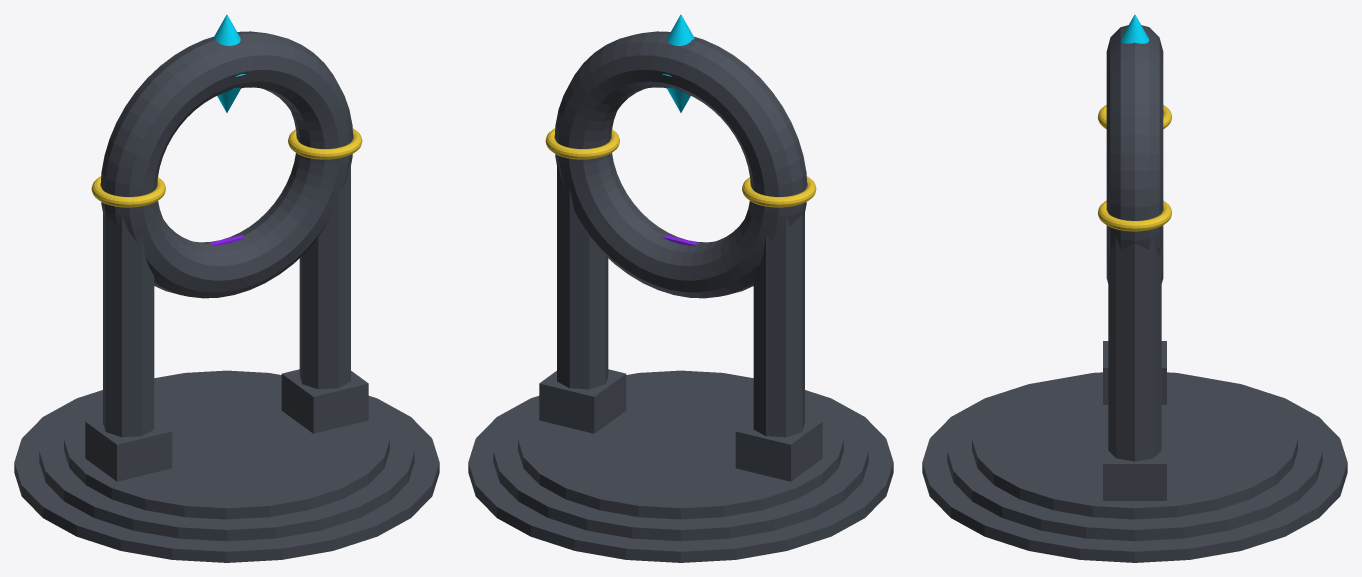
The model's file is Portal_Dungeon_Spectacular.obj.
3 views of the same model, side by side, from view 1: azimuth 30°, elevation 25°; view 2: azimuth 150°, elevation 25°; view 3: azimuth 270°, elevation 25° (orthographic).
Parts seen in each view (by area): view 1: Portal_Archway, Plinth_Step_3, Plinth_Step_1, Plinth_Step_2, Pillar_Col_Left, Pillar_Col_Right, Pillar_Base_Left, Pillar_Base_Right, Pillar_Collar_Left, Pillar_Collar_Right, Keystone_Top; view 2: Portal_Archway, Plinth_Step_3, Plinth_Step_1, Plinth_Step_2, Pillar_Col_Left, Pillar_Col_Right, Pillar_Base_Left, Pillar_Base_Right, Pillar_Collar_Left, Pillar_Collar_Right, Keystone_Top; view 3: Plinth_Step_3, Plinth_Step_1, Plinth_Step_2, Portal_Archway, Pillar_Col_Right, Pillar_Base_Right, Pillar_Collar_Right, Pillar_Base_Left.
Part boxes in pixels (x1=…): Portal_Archway: x1=100, y1=31, x2=353, y2=298; Plinth_Step_3: x1=64, y1=370, x2=389, y2=519; Plinth_Step_1: x1=14, y1=390, x2=439, y2=562; Plinth_Step_2: x1=39, y1=392, x2=414, y2=541; Pillar_Col_Left: x1=103, y1=213, x2=154, y2=437; Pillar_Col_Right: x1=299, y1=160, x2=350, y2=389; Pillar_Base_Left: x1=85, y1=417, x2=172, y2=481; Pillar_Base_Right: x1=281, y1=369, x2=368, y2=433; Pillar_Collar_Left: x1=91, y1=176, x2=165, y2=207; Pillar_Collar_Right: x1=288, y1=128, x2=362, y2=159; Keystone_Top: x1=213, y1=14, x2=245, y2=76; Portal_Archway: x1=554, y1=31, x2=807, y2=298; Plinth_Step_3: x1=518, y1=370, x2=843, y2=519; Plinth_Step_1: x1=468, y1=390, x2=893, y2=562; Plinth_Step_2: x1=493, y1=392, x2=868, y2=541; Pillar_Col_Left: x1=753, y1=213, x2=804, y2=437; Pillar_Col_Right: x1=557, y1=160, x2=608, y2=389; Pillar_Base_Left: x1=735, y1=417, x2=822, y2=481; Pillar_Base_Right: x1=539, y1=369, x2=626, y2=433; Pillar_Collar_Left: x1=742, y1=176, x2=816, y2=207; Pillar_Collar_Right: x1=545, y1=128, x2=619, y2=159; Keystone_Top: x1=662, y1=14, x2=694, y2=76; Plinth_Step_3: x1=972, y1=372, x2=1297, y2=519; Plinth_Step_1: x1=922, y1=382, x2=1347, y2=562; Plinth_Step_2: x1=947, y1=380, x2=1322, y2=541; Portal_Archway: x1=1106, y1=25, x2=1163, y2=283; Pillar_Col_Right: x1=1108, y1=237, x2=1161, y2=461; Pillar_Base_Right: x1=1103, y1=437, x2=1166, y2=500; Pillar_Collar_Right: x1=1098, y1=200, x2=1171, y2=231; Pillar_Base_Left: x1=1103, y1=341, x2=1166, y2=404.
Size of the model in its own units: 12 by 14.3 by 12.
